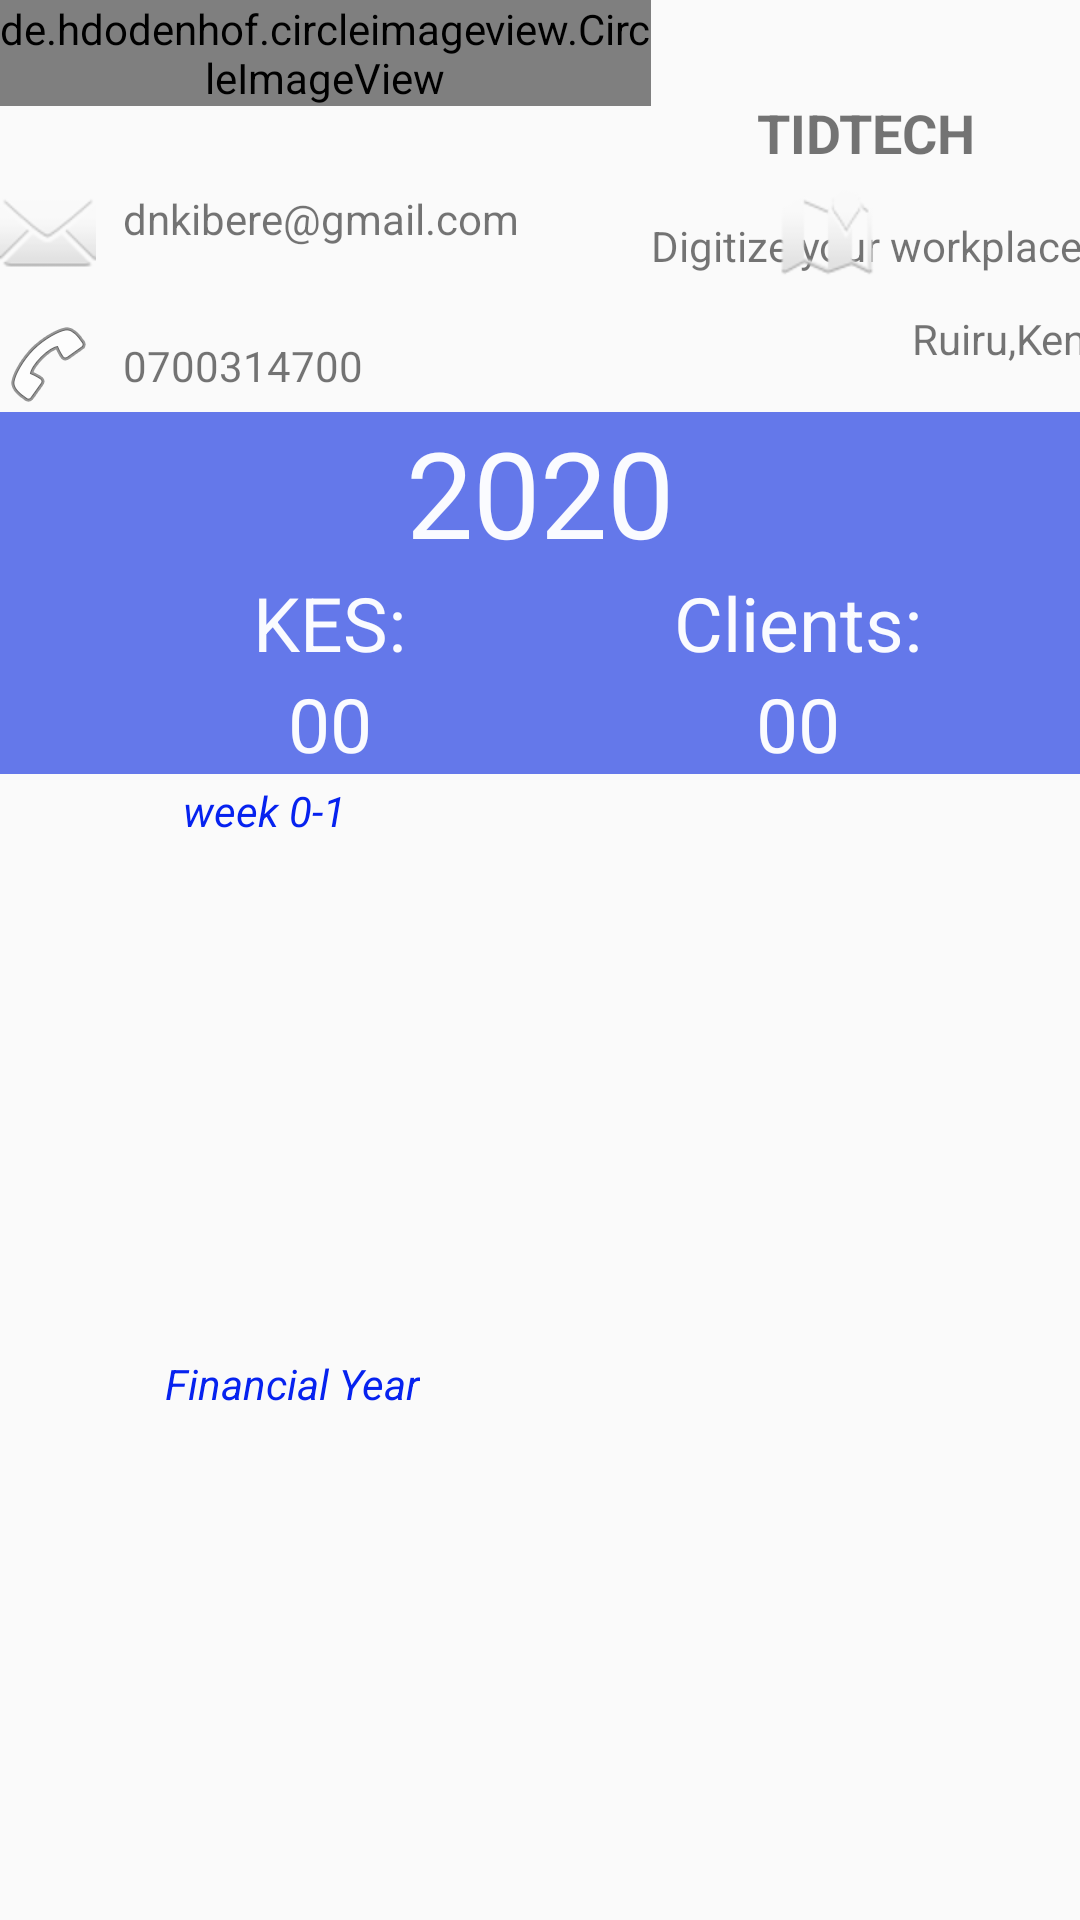

Point at icon controls on the screen. Image size 1080w x 1920h, points as point (x, y).
call: point (48, 364)
email: point (48, 234)
